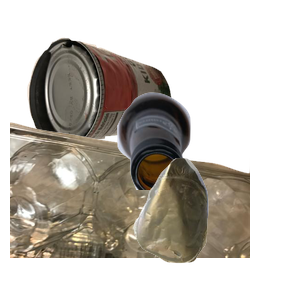glass: (115, 90, 300, 270)
metal: (25, 35, 189, 180)
plastic: (10, 120, 250, 300)
trash: (131, 155, 300, 300)
